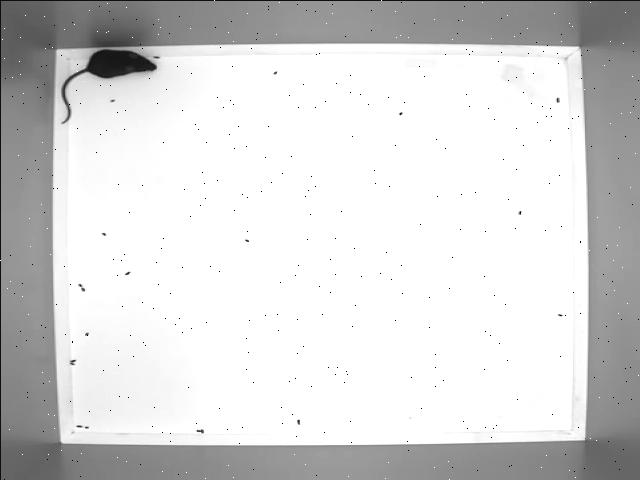Tikus: (52, 48, 158, 126)
